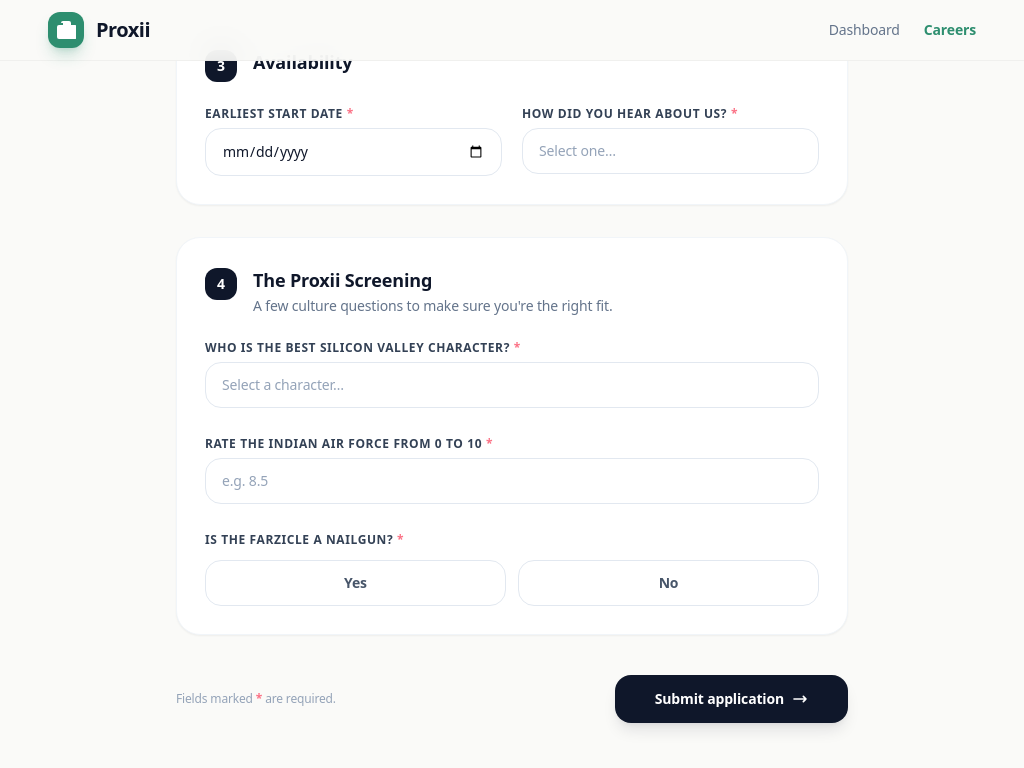
Test: Proxii Screening — Silicon Valley character › shows "Invalid string" for Gilfoyle
(page scrolled)
Select "Gilfoyle" in the dropdown "Select a character…" below "The Proxii Screening" at [512, 384], box [205,362,819,408]
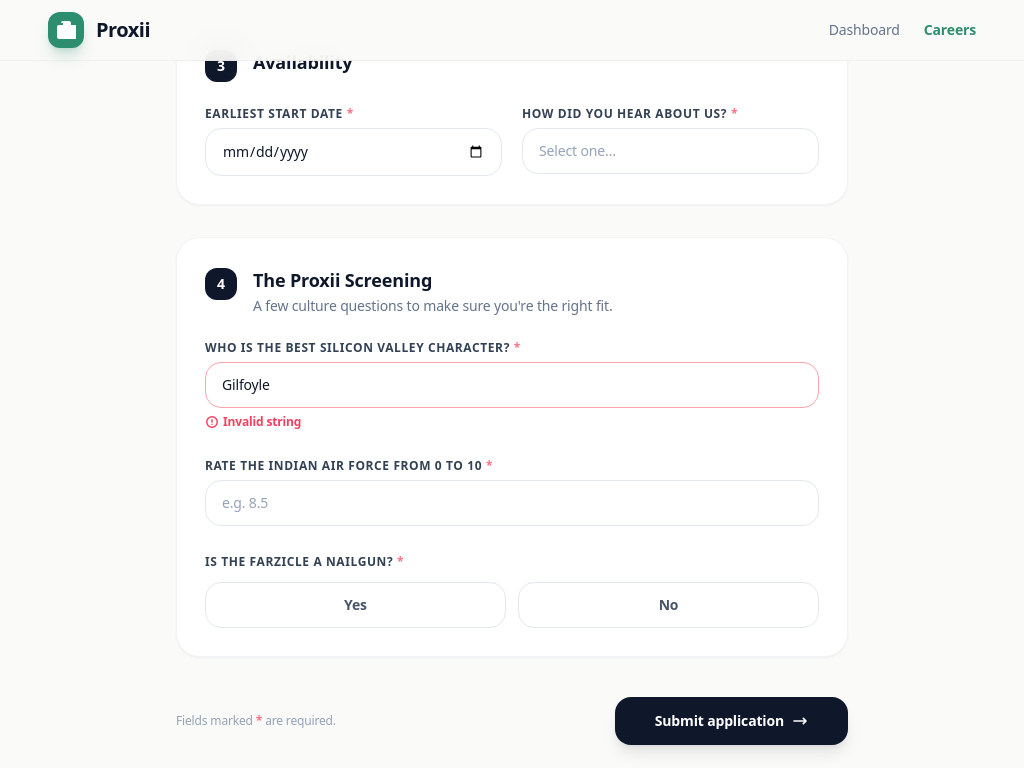
Now the text "Invalid string" is shown, box [205,412,301,430]
